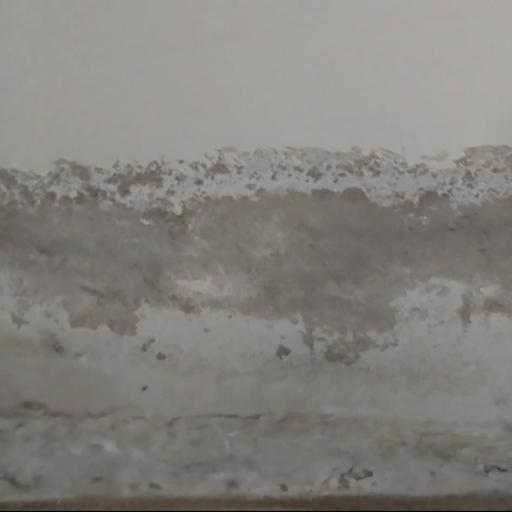peeling: (0, 131, 512, 465)
